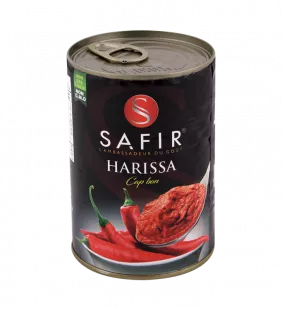SAFIR: (60, 20, 221, 291)
